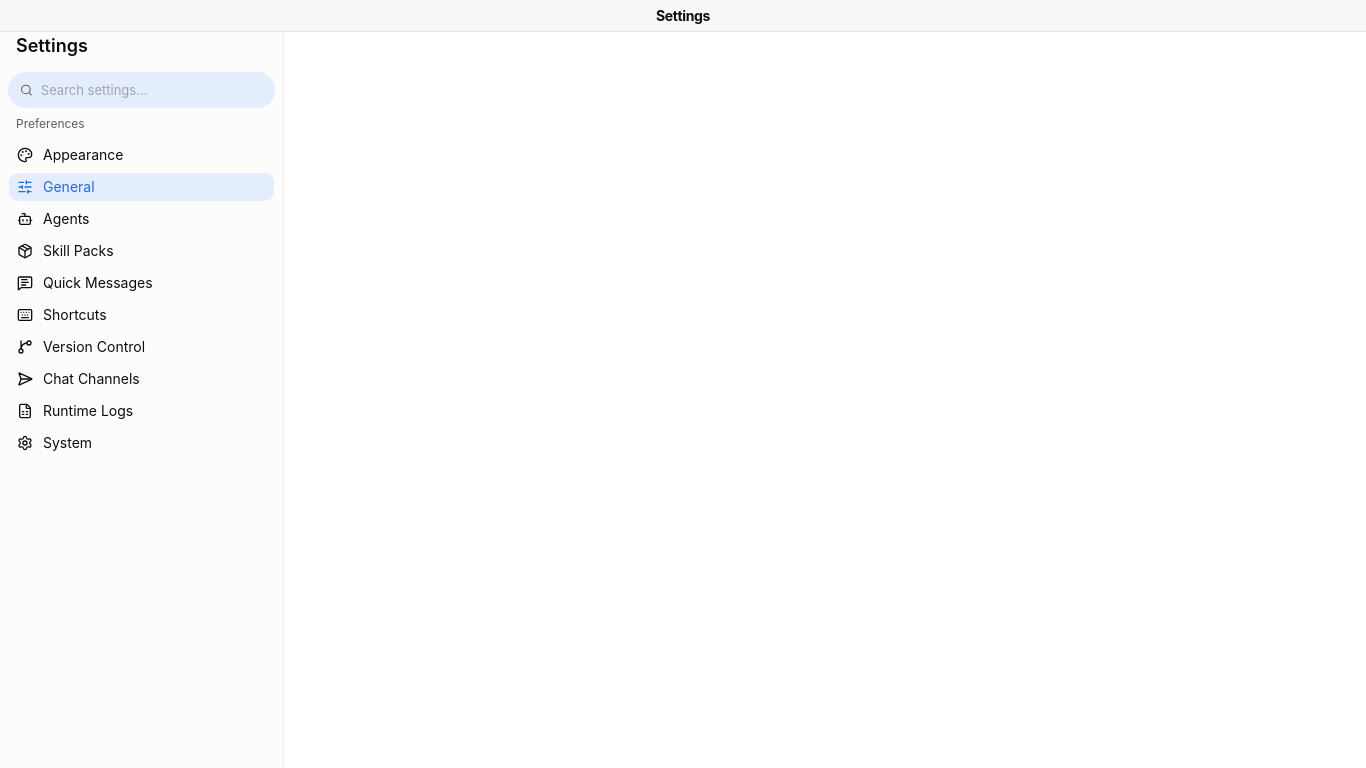
MaxCode: search concrete settings and reveal the result › shows an empty state and Escape restores navigation
This screenshot has width=1366, height=768.
In the field labelled "Search settings…": {"x": 152, "y": 90} [41, 78, 263, 102], type "no-such-setting-481"
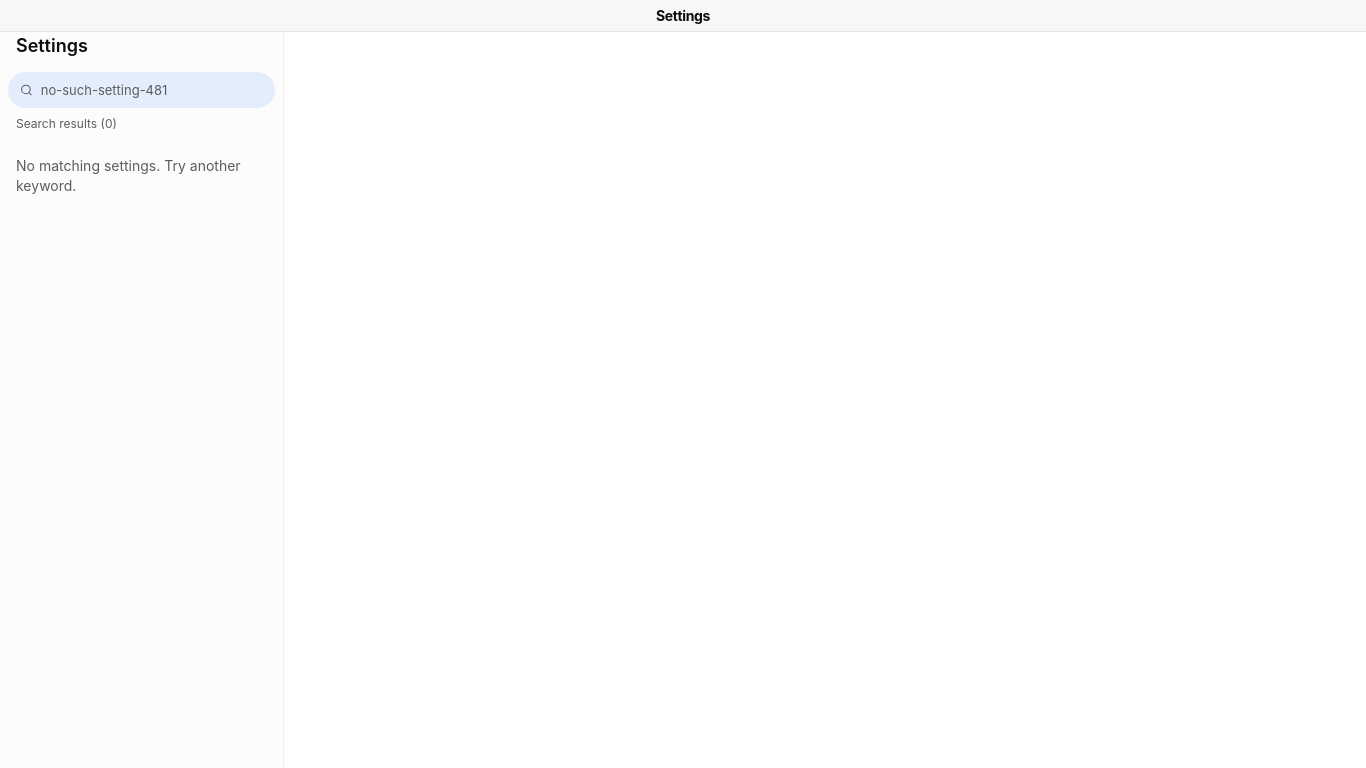
Expected: the message reads "No matching settings. Try another keyword.", [16, 157, 241, 194]
Press Escape in the field, box [41, 78, 263, 102]
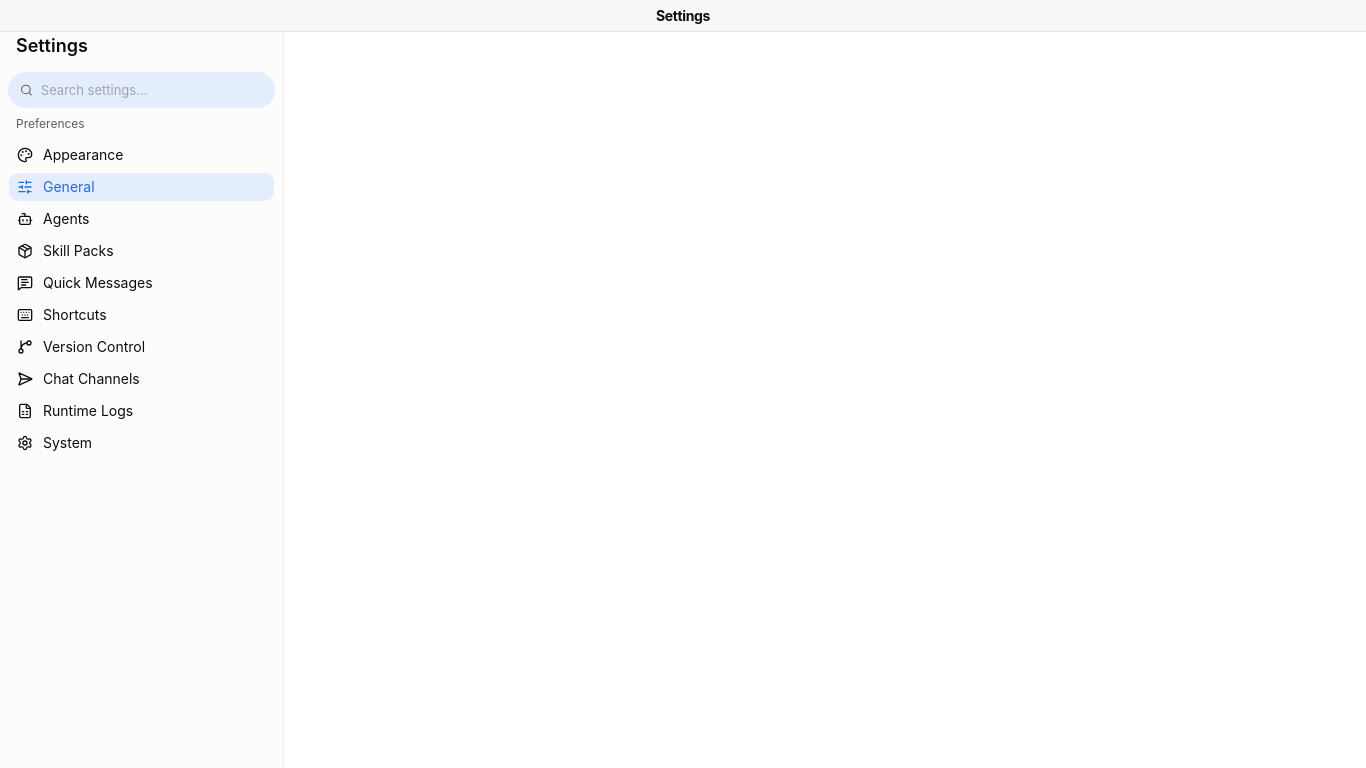
Expected: the button "General" is shown, [8, 172, 275, 202]
